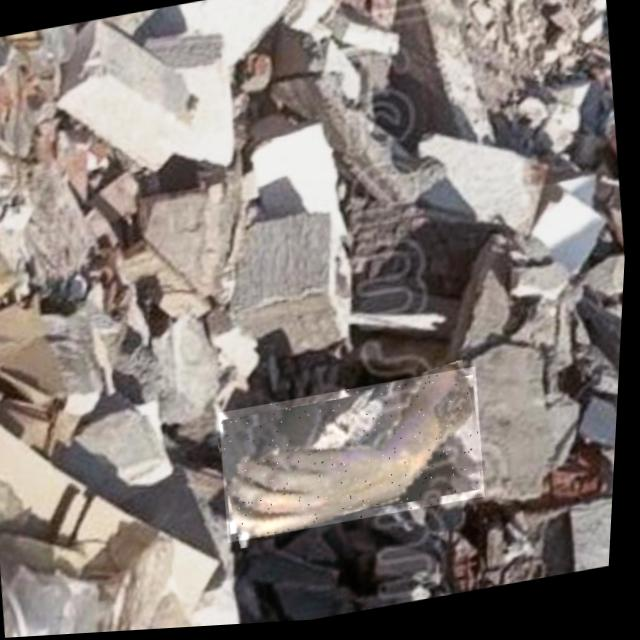Person in Rubble: (217, 372, 494, 546)
